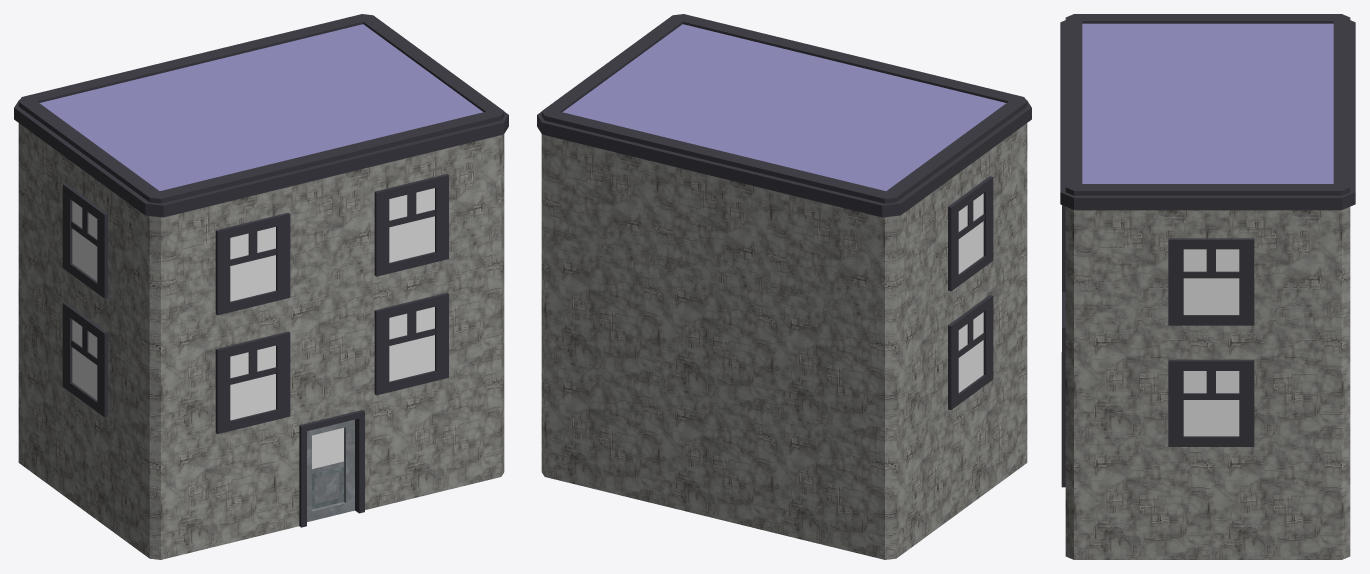
The model's file is Building 2.fbx.
3 renders of one model, left to right at view 1: azimuth 30°, elevation 25°; view 2: azimuth 150°, elevation 25°; view 3: azimuth 270°, elevation 25°, orthographic. The views are drawn at different scales.
Visible parts, largest first — view 1: mergedBlocks; view 2: mergedBlocks; view 3: mergedBlocks.
Boxes of the visible parts, left/top/right/bottom form: mergedBlocks: left=14, top=14, right=508, bottom=559; mergedBlocks: left=537, top=14, right=1031, bottom=559; mergedBlocks: left=1060, top=14, right=1355, bottom=559.
Bounding box in the file's own units: 32.3 × 30.4 × 22.05.
Materials: 6 (3 with a texture image).
